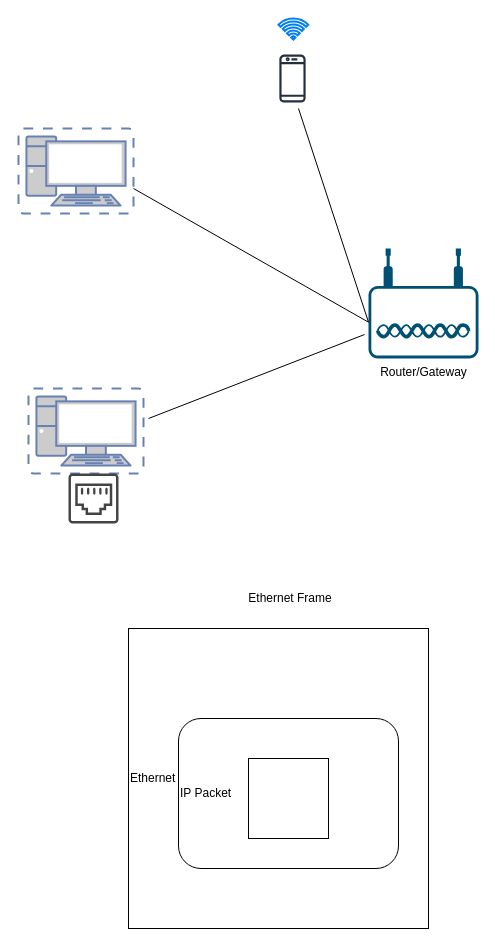
The diagram is 495 pixels wide and 946 high, and some of its shapes have lost their labels. Here are the shapes that lost their labels. From the top down, the centre of each, then its label:
point (292, 78): Mobile client
point (288, 798): HTTP Packet
